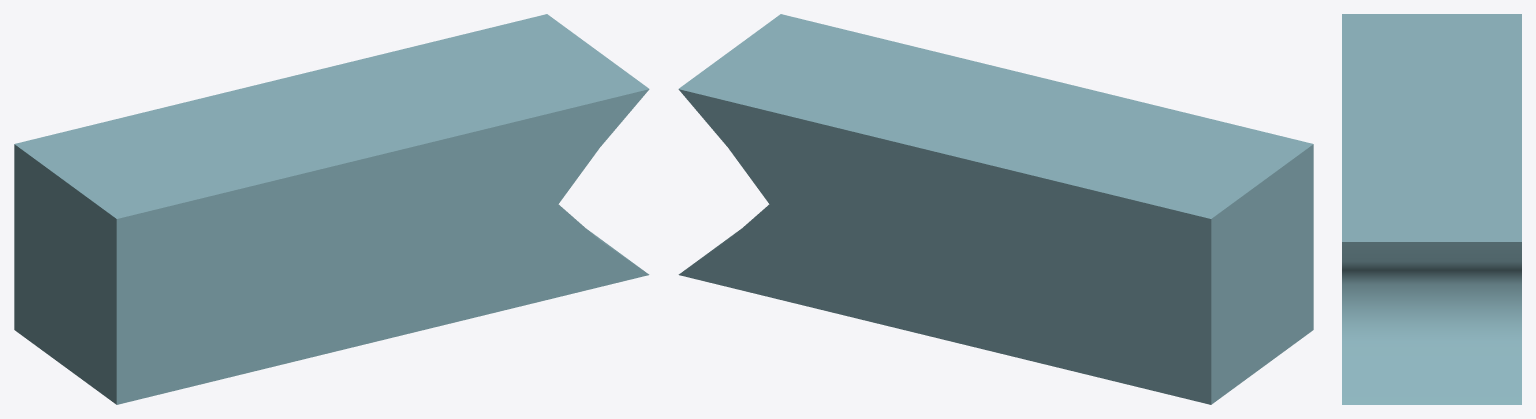
The picture shows the model from 3 angles, left to right: view 1: azimuth 30°, elevation 25°; view 2: azimuth 150°, elevation 25°; view 3: azimuth 270°, elevation 25°; orthographic projection. The views are drawn at different scales.
Parts seen in each view (by area): view 1: pCube1; view 2: pCube1; view 3: pCube1.
Part boxes in pixels (bbox=[...]): pCube1: bbox=[14, 14, 649, 404]; pCube1: bbox=[678, 14, 1313, 404]; pCube1: bbox=[1342, 14, 1521, 404].
Bounding box in the file's own units: 3 × 1 × 1.
